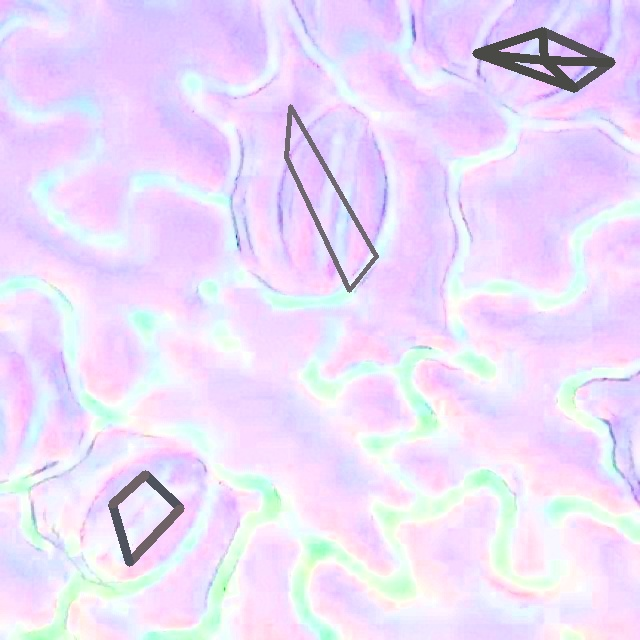open: (285, 104, 377, 292), (472, 27, 615, 92), (108, 471, 183, 565)
